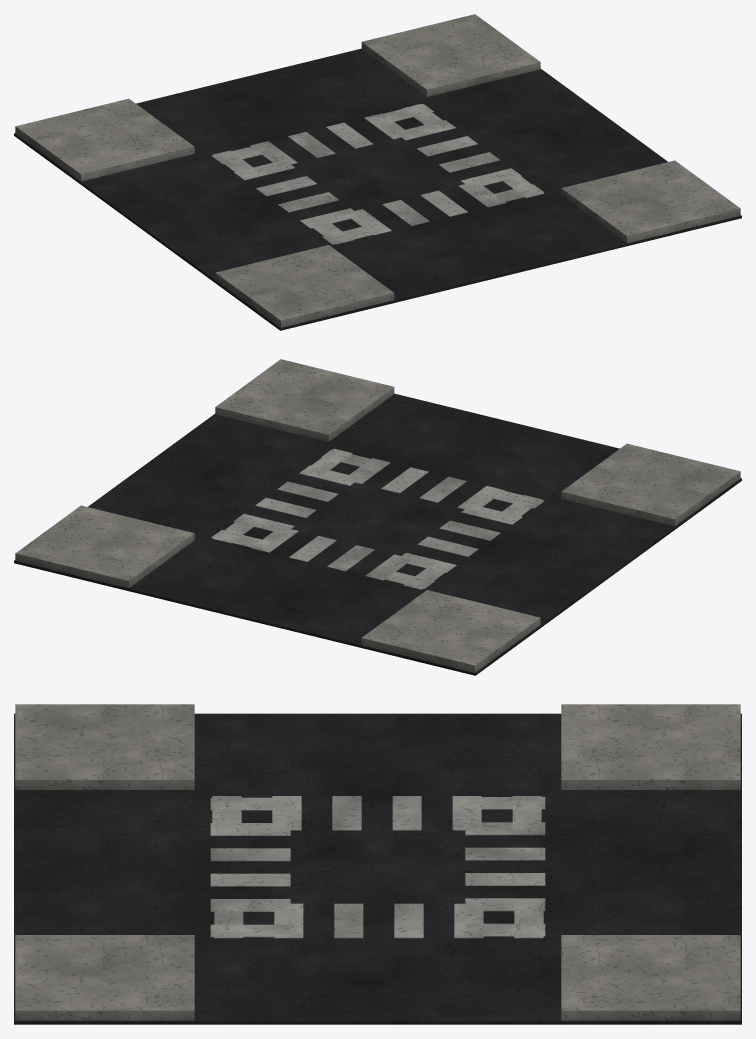
File: road_cross.glb
The picture shows the model from 3 angles, top to bottom: view 1: azimuth 30°, elevation 25°; view 2: azimuth 150°, elevation 25°; view 3: azimuth 270°, elevation 25°; orthographic projection. The views are drawn at different scales.
Parts seen in each view (by area): view 1: road_cross, group_8, group_22, group_1, group_15; view 2: road_cross, group_8, group_1, group_15, group_22; view 3: road_cross, group_1, group_22, group_15, group_8.
Boxes of the visible parts, left/top/right/bottom form: road_cross: left=14, top=14, right=741, bottom=330; group_8: left=373, top=104, right=543, bottom=204; group_22: left=212, top=144, right=374, bottom=244; group_1: left=307, top=172, right=544, bottom=244; group_15: left=212, top=104, right=444, bottom=176; road_cross: left=14, top=359, right=741, bottom=675; group_8: left=211, top=449, right=380, bottom=549; group_1: left=305, top=448, right=542, bottom=516; group_15: left=213, top=522, right=450, bottom=589; group_22: left=378, top=489, right=544, bottom=589; road_cross: left=14, top=704, right=741, bottom=1024; group_1: left=210, top=797, right=290, bottom=937; group_22: left=212, top=796, right=541, bottom=830; group_15: left=465, top=797, right=545, bottom=936; group_8: left=214, top=903, right=543, bottom=938.
Size of the model in its own units: 20 by 0.4 by 20.
3 materials, 3 textured.
